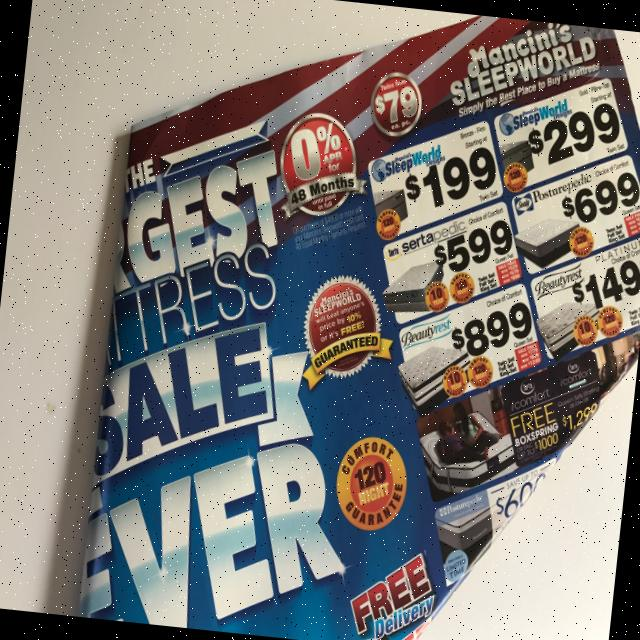paper: (74, 0, 640, 640)
